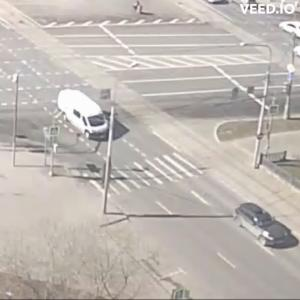car: (58, 90, 108, 141), (238, 202, 287, 248)
